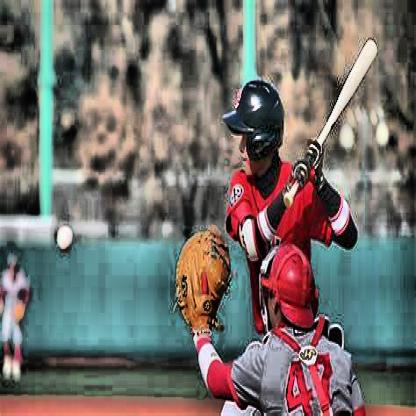baseball: (57, 226, 74, 249)
